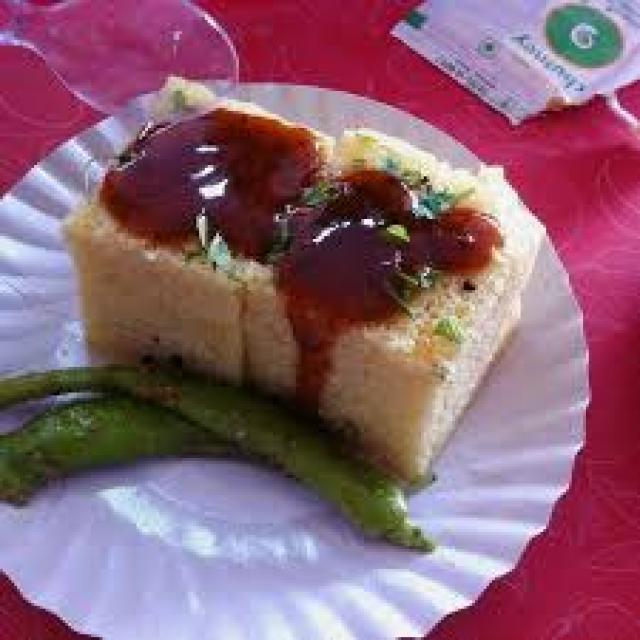DHOKLA: (61, 67, 548, 483)
